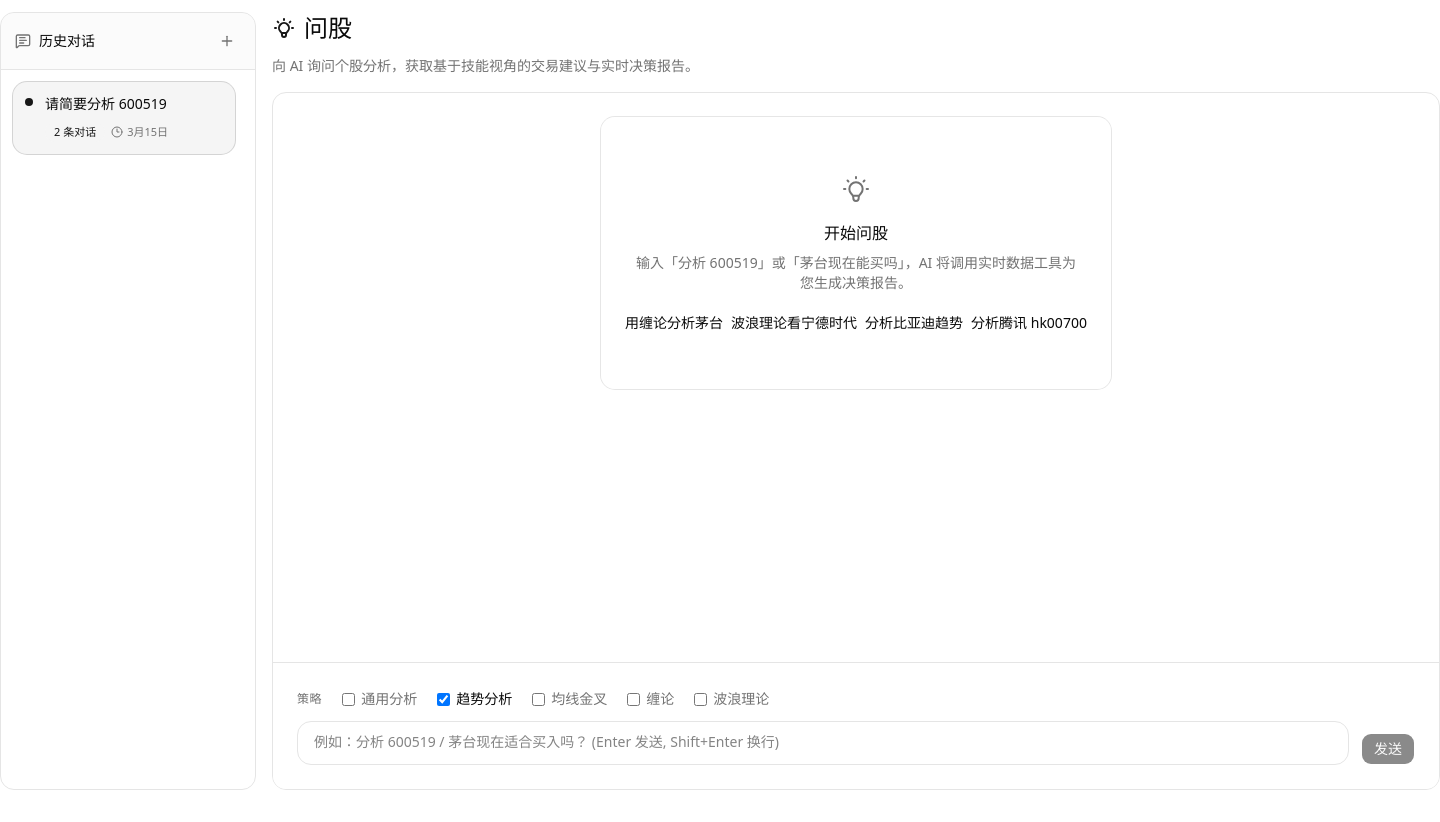
Test case: ChatPage › caps concrete skill selection at three and re-enables choices after unselecting
Step 1. Click the checkbox labelled "均线金叉" → (539, 699), box [532,692,545,706]
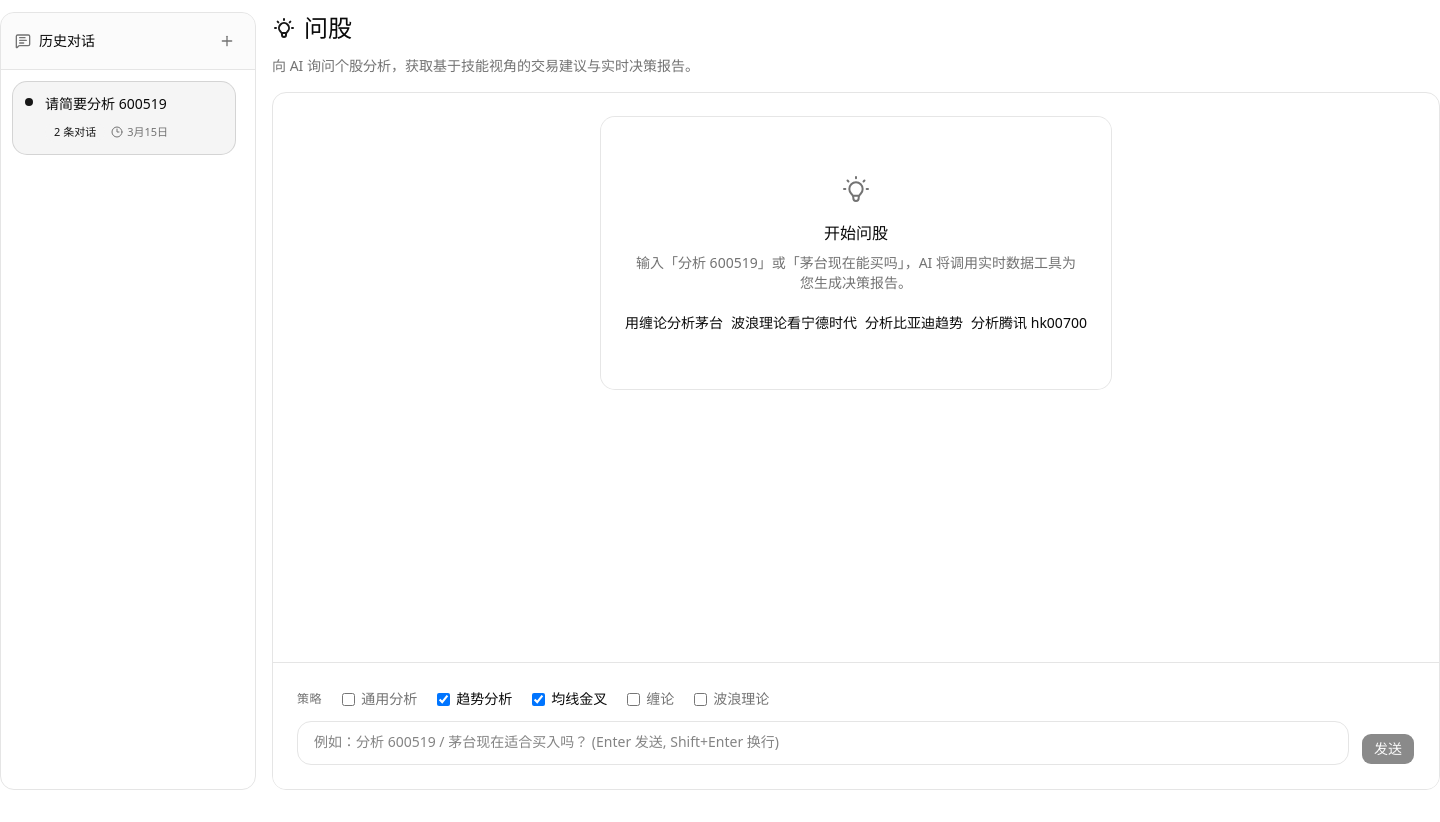
Step 2. Click the checkbox labelled "缠论" → (634, 699), box [627,692,640,706]
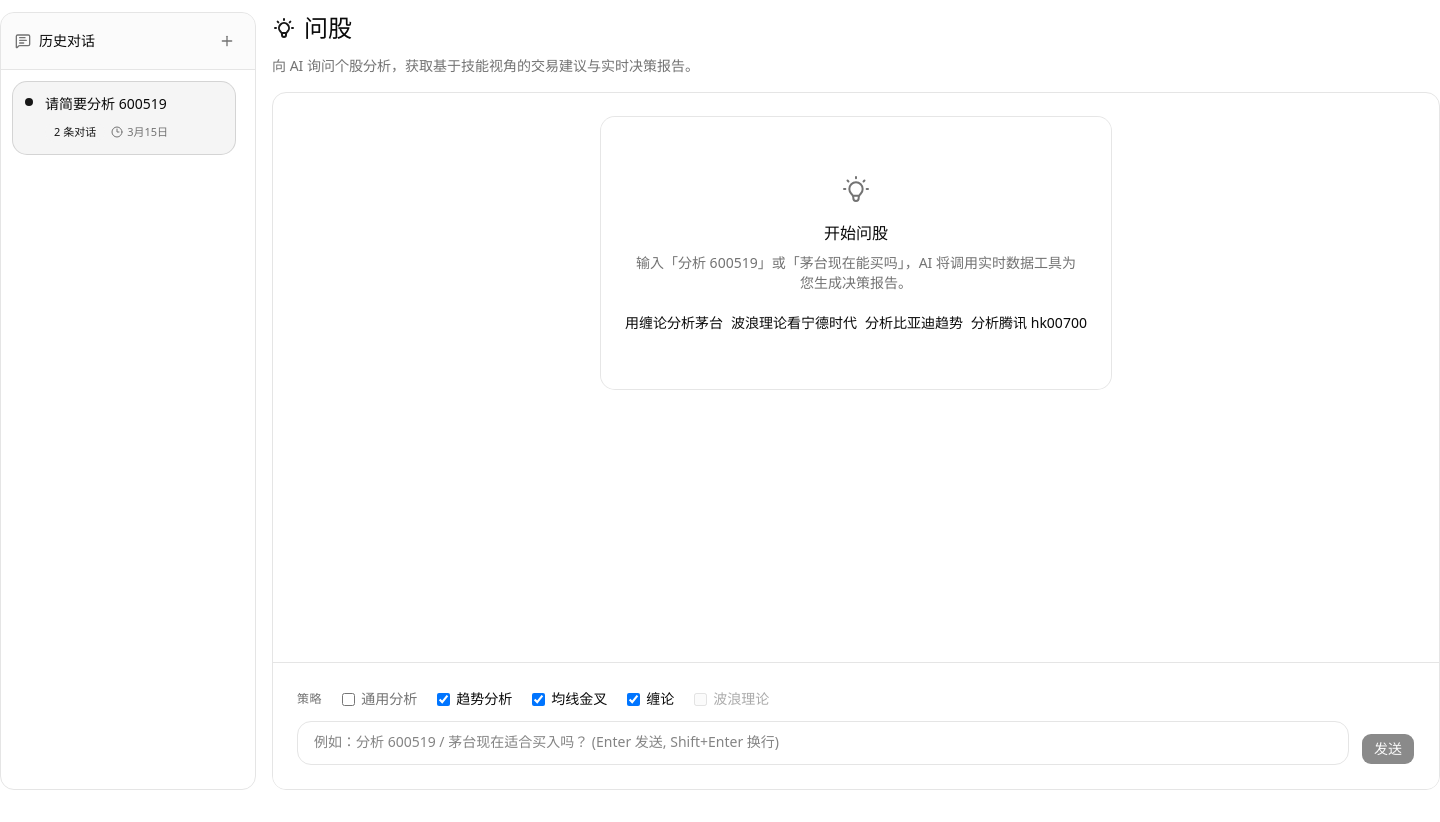
Expected: the checkbox labelled "波浪理论" is disabled, [694,692,707,706]
Step 3. Click the checkbox labelled "均线金叉" → (539, 699), box [532,692,545,706]
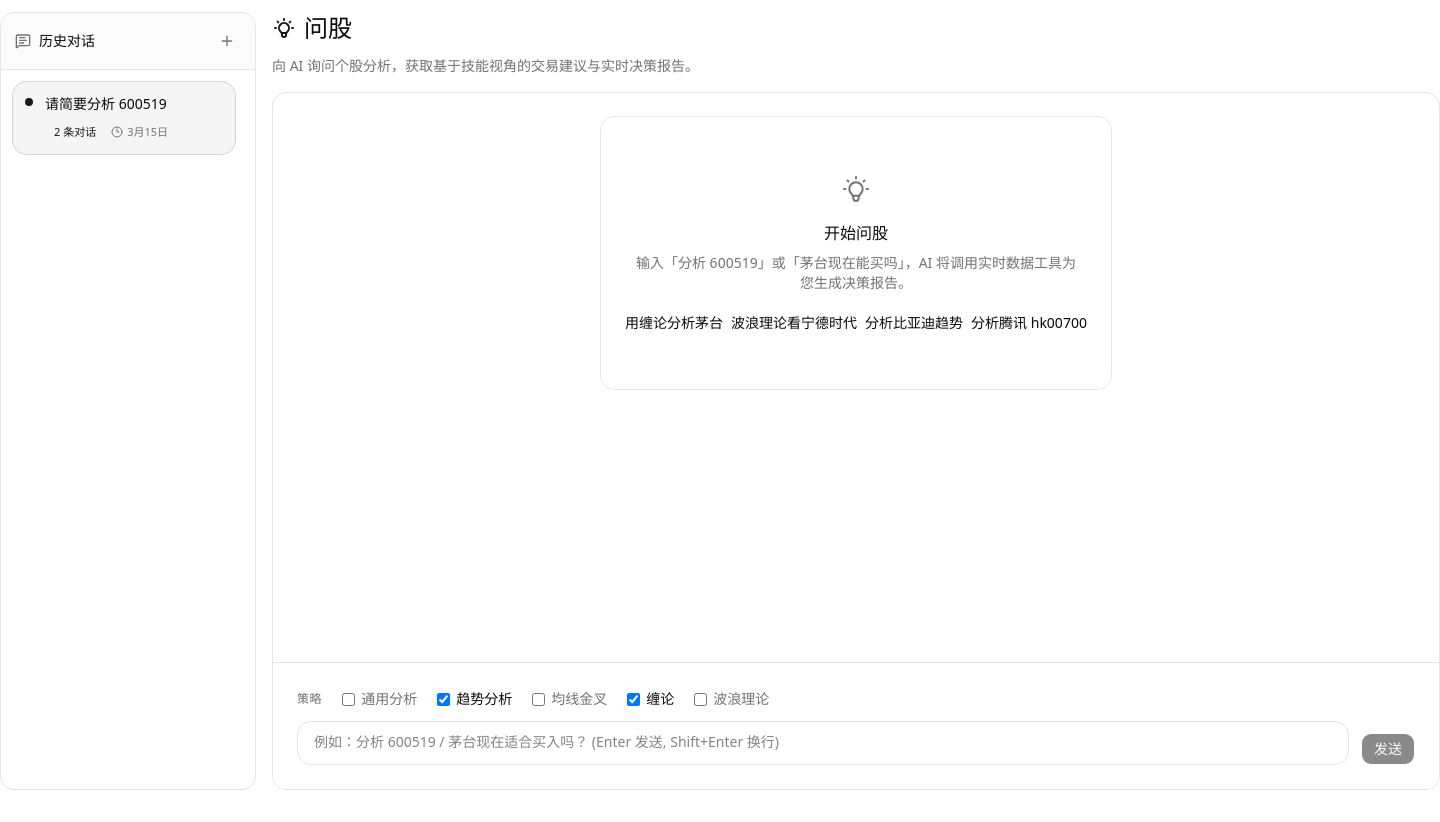
Expected: the checkbox labelled "波浪理论" is enabled, [694,692,707,706]
